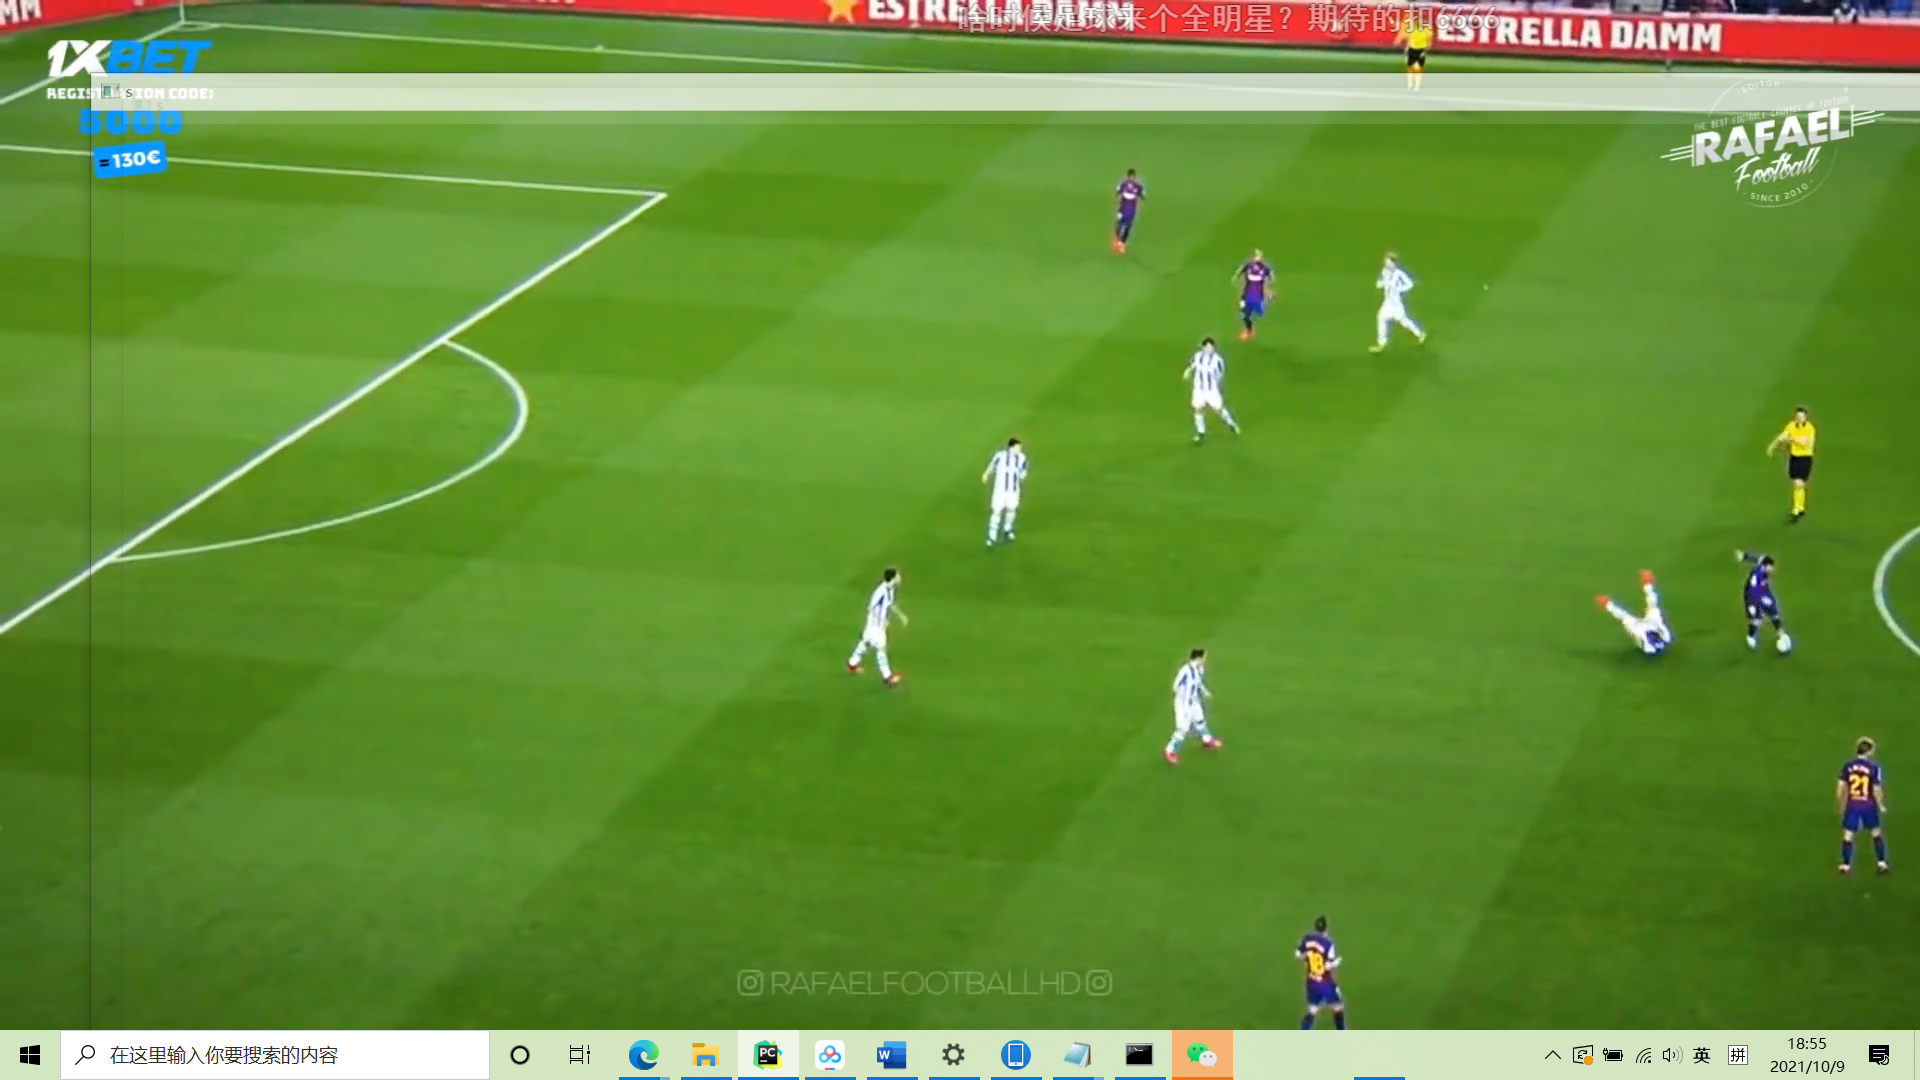ft: (1774, 636, 1793, 655)
